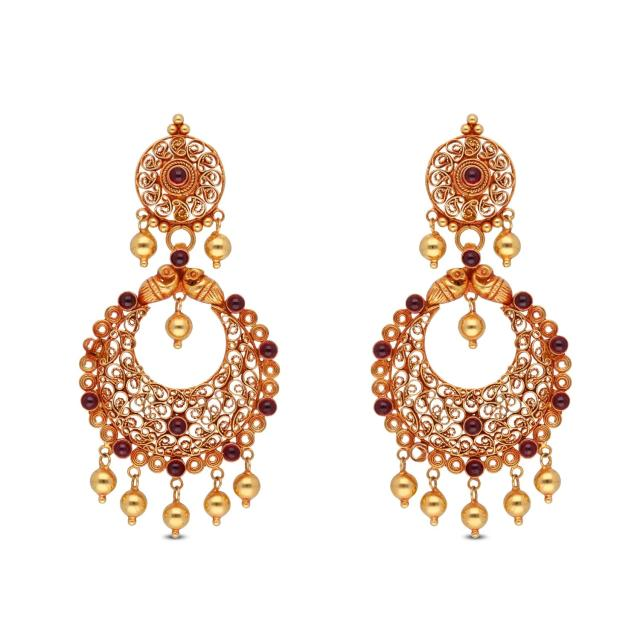missing gem: (84, 339, 102, 354), (412, 444, 428, 460)
